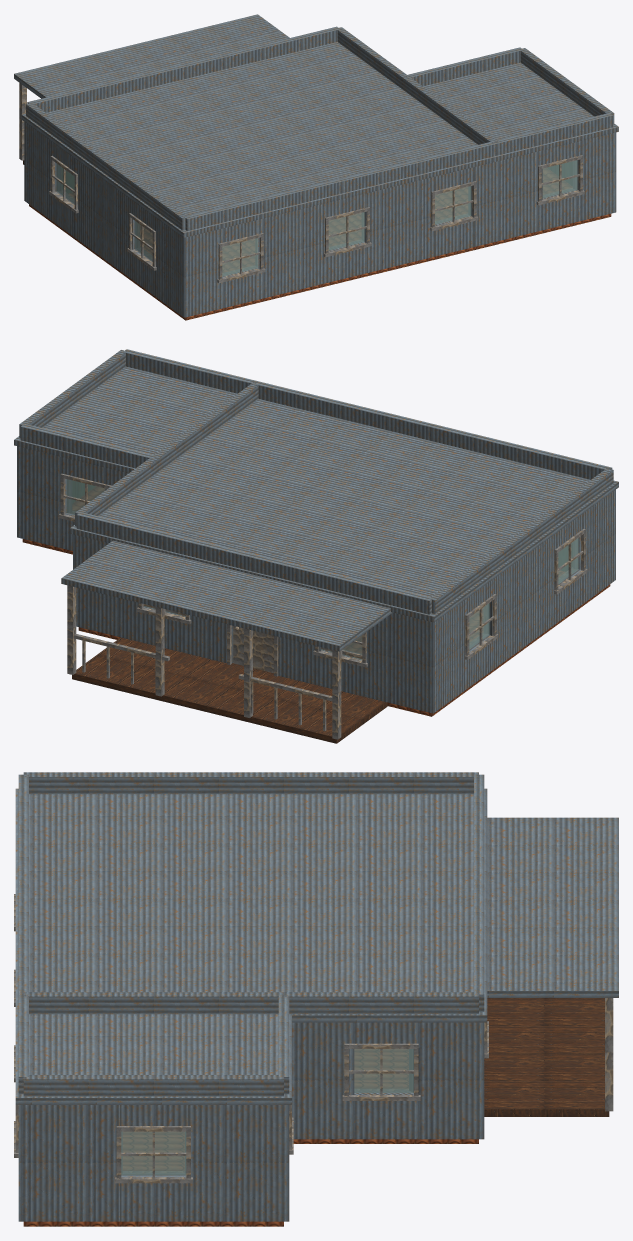
File: canal-studio.gltf
3 views of the same model, one above another, from view 1: azimuth 30°, elevation 25°; view 2: azimuth 150°, elevation 25°; view 3: azimuth 270°, elevation 25° (orthographic). The views are drawn at different scales.
Parts seen in each view (by area): view 1: roof-L0-concrete, exterior-L0-concrete, porch-L0-concrete, trim-L0-dark-wood, glazing-L0-glass, floor-L0-floor, porch-L0-dark-wood; view 2: roof-L0-concrete, exterior-L0-concrete, porch-L0-concrete, porch-L0-stone, porch-L0-dark-wood, trim-L0-dark-wood, glazing-L0-glass, floor-L0-floor, door-leaf-L0-dark-wood; view 3: roof-L0-concrete, exterior-L0-concrete, porch-L0-concrete, porch-L0-stone, floor-L0-floor, glazing-L0-glass, trim-L0-dark-wood, porch-L0-dark-wood.
Boxes of the visible parts, x1,y1,x2,y2 form: roof-L0-concrete: [21, 26, 618, 237]; exterior-L0-concrete: [24, 122, 616, 317]; porch-L0-concrete: [14, 14, 289, 98]; trim-L0-dark-wood: [49, 155, 584, 283]; glazing-L0-glass: [56, 160, 577, 276]; floor-L0-floor: [29, 168, 611, 320]; porch-L0-dark-wood: [19, 83, 26, 160]; roof-L0-concrete: [14, 349, 618, 622]; exterior-L0-concrete: [17, 446, 615, 713]; porch-L0-concrete: [61, 540, 392, 651]; porch-L0-stone: [72, 637, 387, 743]; porch-L0-dark-wood: [67, 585, 362, 739]; trim-L0-dark-wood: [58, 473, 587, 676]; glazing-L0-glass: [66, 479, 578, 659]; floor-L0-floor: [22, 487, 610, 716]; door-leaf-L0-dark-wood: [233, 626, 273, 672]; roof-L0-concrete: [15, 772, 487, 1104]; exterior-L0-concrete: [18, 1022, 484, 1221]; porch-L0-concrete: [487, 817, 618, 997]; porch-L0-stone: [484, 998, 609, 1116]; floor-L0-floor: [23, 1049, 478, 1226]; glazing-L0-glass: [121, 1049, 413, 1175]; trim-L0-dark-wood: [14, 894, 488, 1183]; porch-L0-dark-wood: [605, 998, 613, 1111].
Bounding box in the file's own units: 11.3 × 2.54 × 9.3.
7 materials, 6 textured.
